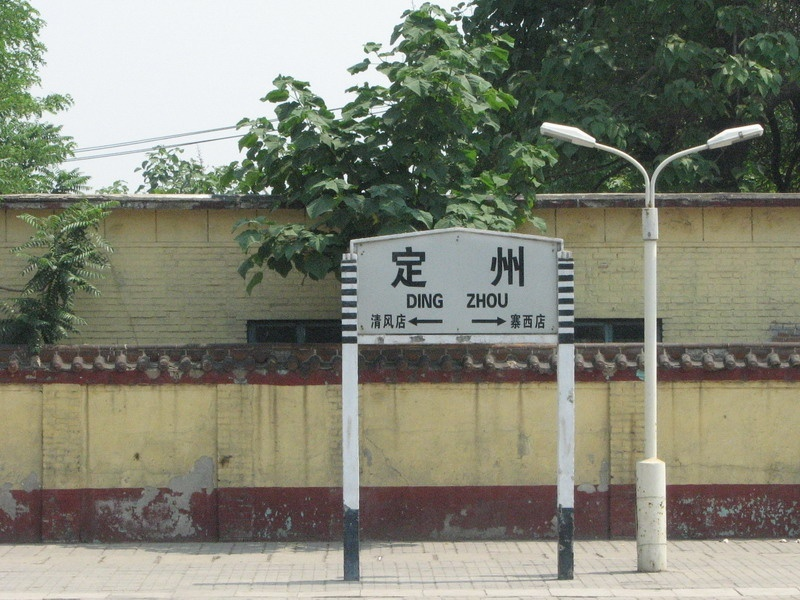text: (401, 246, 416, 290), (417, 246, 432, 290), (433, 246, 448, 290), (449, 246, 464, 290), (465, 246, 480, 290), (481, 246, 496, 290), (497, 246, 512, 290), (513, 246, 526, 290), (391, 246, 400, 290), (417, 293, 432, 310), (385, 313, 400, 330), (513, 313, 528, 330), (529, 313, 544, 330), (481, 294, 496, 309), (371, 313, 384, 330), (433, 293, 445, 310), (467, 294, 480, 309), (497, 294, 510, 309), (408, 293, 416, 310), (401, 313, 406, 330), (510, 313, 512, 330), (545, 313, 546, 330)
